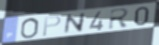0: (133, 6, 152, 27)
4: (88, 10, 105, 31)
N: (62, 12, 87, 35)
O: (20, 17, 41, 39)
P: (42, 15, 63, 38)
R: (108, 7, 131, 31)
